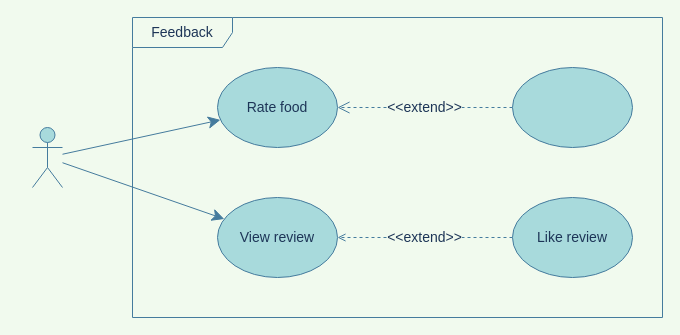
Some shapes in this 680 by 335 pixel diagram are drawn without their labels. Here are the shapes that lost their labels. From the top down, the centre of each, then its label:
[572,107]: Write review
[47,157]: Customer
